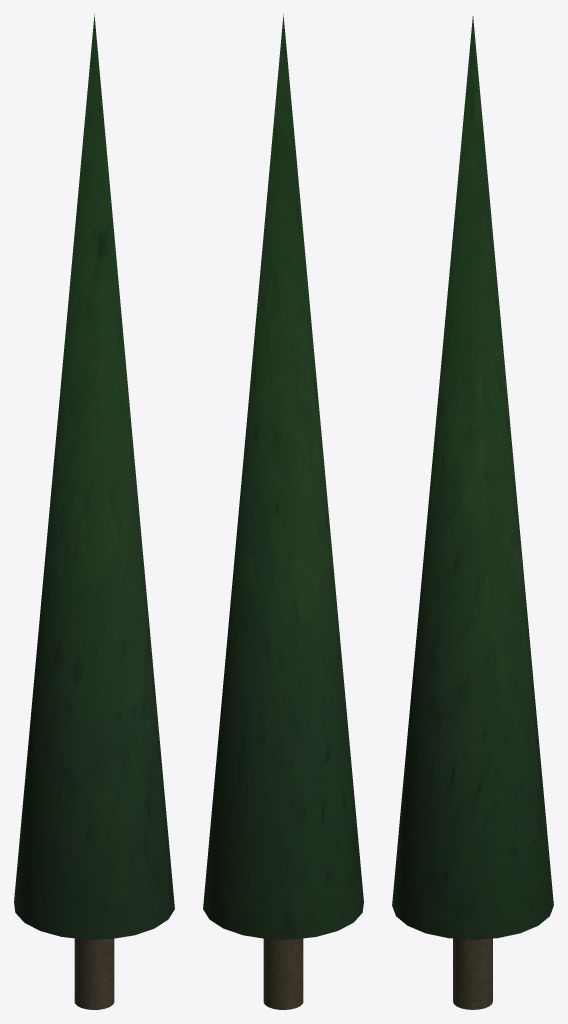
File: tree.obj
The picture shows the model from 3 angles, left to right: view 1: azimuth 30°, elevation 25°; view 2: azimuth 150°, elevation 25°; view 3: azimuth 270°, elevation 25°; orthographic projection.
Parts seen in each view (by area): view 1: pCone1, pCylinder1; view 2: pCone1, pCylinder1; view 3: pCone1, pCylinder1.
Boxes of the visible parts, x1,y1,x2,y2 form: pCone1: (14, 14, 174, 939); pCylinder1: (74, 938, 114, 1009); pCone1: (203, 14, 363, 939); pCylinder1: (263, 938, 303, 1009); pCone1: (392, 16, 553, 939); pCylinder1: (453, 938, 492, 1009).
Size of the model in its own units: 0.6912 by 4.65 by 0.6912.
2 materials, 2 textured.
